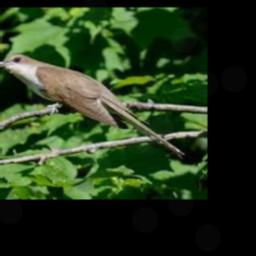Cuckoo: (0, 53, 185, 158)
